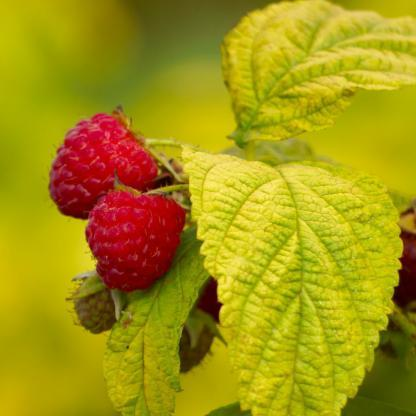Raspberry leaf: (177, 140, 402, 416), (220, 7, 416, 142)
